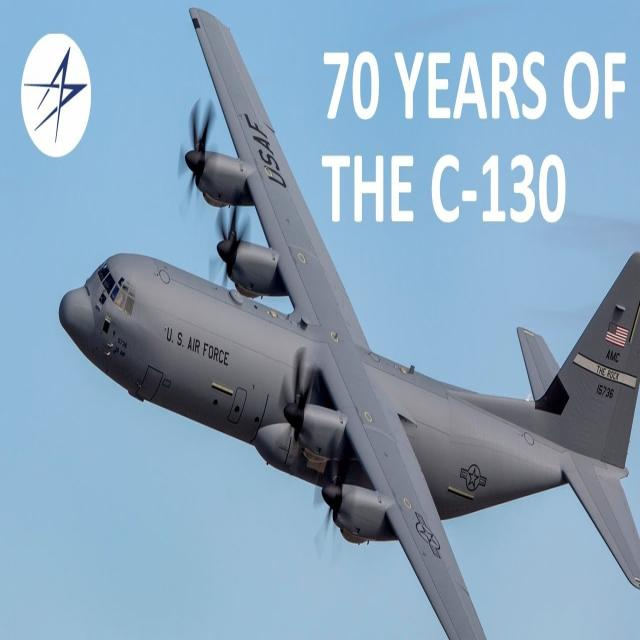C130: (19, 7, 640, 640)
